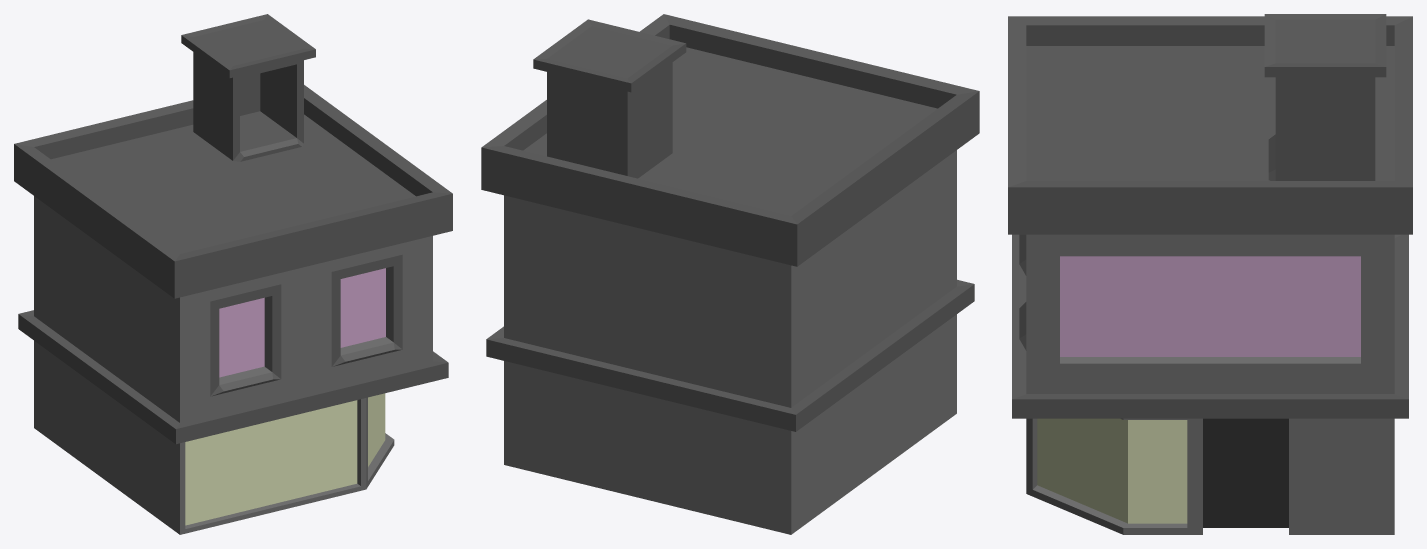
File: Дом 2.fbx
3 views of the same model, side by side, from view 1: azimuth 30°, elevation 25°; view 2: azimuth 150°, elevation 25°; view 3: azimuth 270°, elevation 25° (orthographic). The views are drawn at different scales.
Visible parts, largest first — view 1: Cube; view 2: Cube; view 3: Cube.
Boxes of the visible parts, x1=… form: Cube: x1=14, y1=14, x2=452, y2=534; Cube: x1=481, y1=14, x2=979, y2=534; Cube: x1=1008, y1=14, x2=1412, y2=534.
Bounding box in the file's own units: 8.87 × 10.97 × 8.87.
